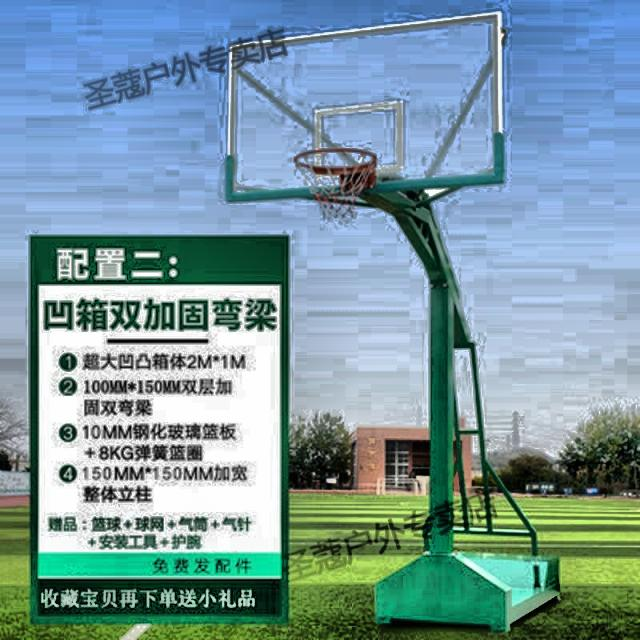rim: (293, 146, 378, 220)
